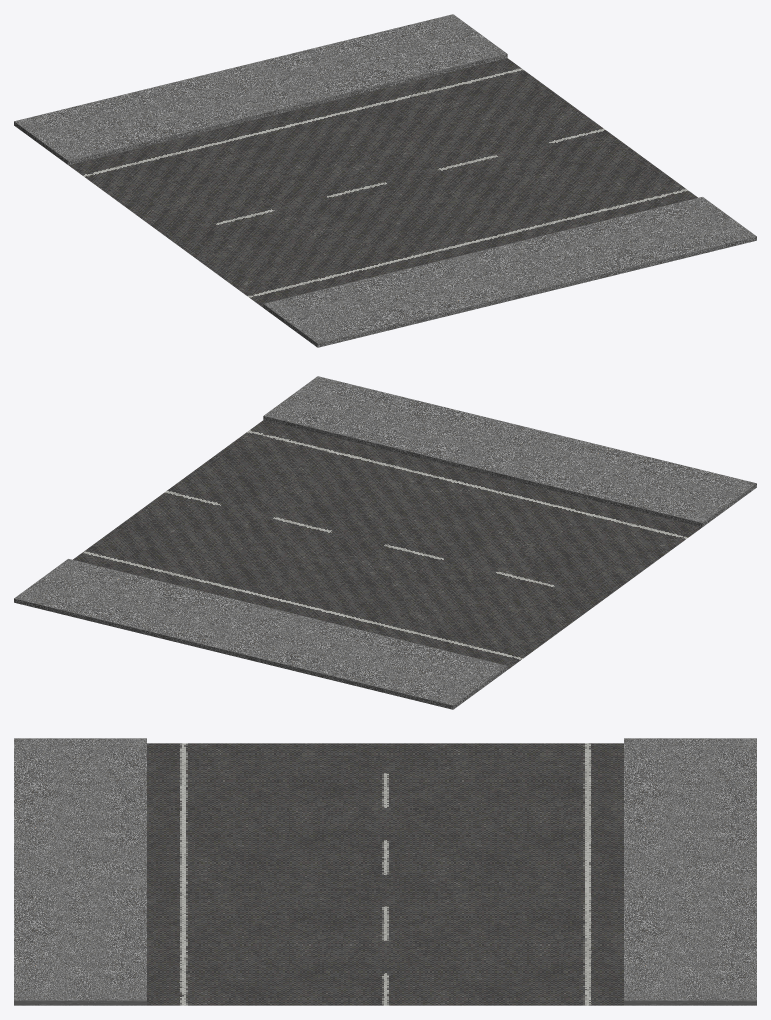
Rendered from Road_Straight.glb.
3 renders of one model, top to bottom at view 1: azimuth 30°, elevation 25°; view 2: azimuth 150°, elevation 25°; view 3: azimuth 270°, elevation 25°, orthographic. The views are drawn at different scales.
Visible parts, largest first — view 1: Road_Straight; view 2: Road_Straight; view 3: Road_Straight.
Part boxes in pixels (x1=…): Road_Straight: x1=14, y1=14, x2=756, y2=347; Road_Straight: x1=14, y1=376, x2=756, y2=709; Road_Straight: x1=14, y1=738, x2=756, y2=1005.
Size of the model in its own units: 13 by 0.1182 by 15.57.
Materials: 2 (2 with a texture image).
